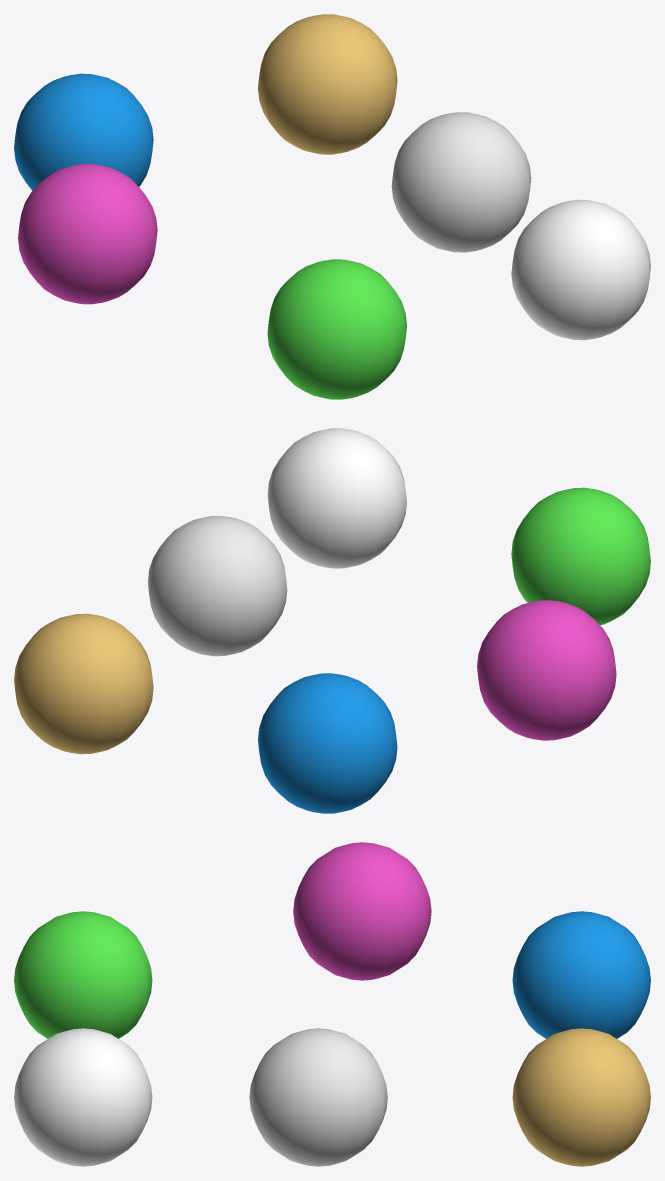
File: pbrr.glb
3 views of the same model, one above another, from view 1: azimuth 30°, elevation 25°; view 2: azimuth 150°, elevation 25°; view 3: azimuth 270°, elevation 25° (orthographic).
Visible parts, largest first — view 1: Sphere.003, Sphere.005, Sphere, Sphere.001, Sphere.004, Sphere.002; view 2: Sphere.001, Sphere, Sphere.002, Sphere.003, Sphere.004, Sphere.005; view 3: Sphere, Sphere.003, Sphere.004, Sphere.001, Sphere.002, Sphere.005.
Part boxes in pixels (x1,y1,x2,y2): Sphere.003: (258,14,397,154); Sphere.005: (267,259,406,399); Sphere: (511,199,650,340); Sphere.001: (18,164,157,304); Sphere.004: (391,112,531,252); Sphere.002: (14,73,153,190); Sphere.001: (477,600,616,740); Sphere: (267,428,406,568); Sphere.002: (258,673,397,813); Sphere.003: (14,613,153,754); Sphere.004: (147,516,287,656); Sphere.005: (511,487,650,625); Sphere: (14,1028,152,1166); Sphere.003: (512,1028,650,1166); Sphere.004: (249,1028,387,1166); Sphere.001: (293,842,431,980); Sphere.002: (512,911,650,1038); Sphere.005: (14,911,152,1038).
Bounding box in the file's own units: 3.88 × 1.14 × 4.6.
